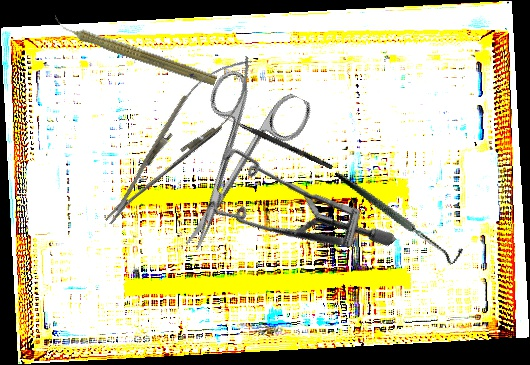Handpiece: (49, 13, 220, 89)
Hook Surgical: (334, 137, 467, 293), (216, 112, 334, 170)
Iris Scissors: (144, 60, 316, 269)
Needle Holder: (87, 41, 269, 239)
Speculum: (182, 100, 397, 322)
